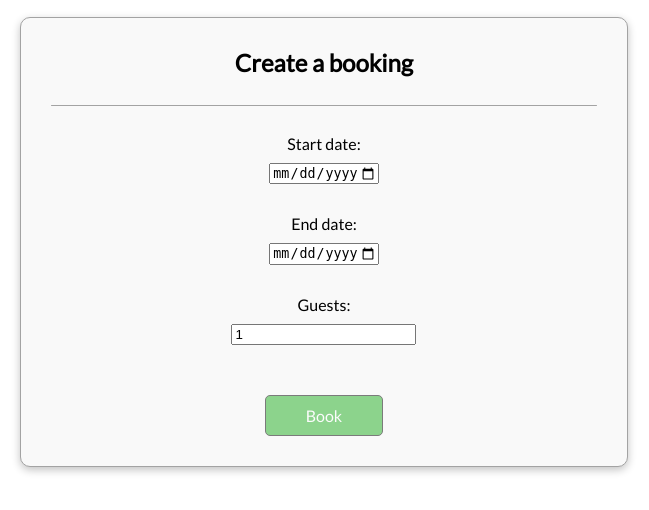
Book property › start date validation works correctly
The image size is (649, 510).
In the date field with test id "start-date-test": (324, 174) [269,163,379,184], type "2026-01-01"
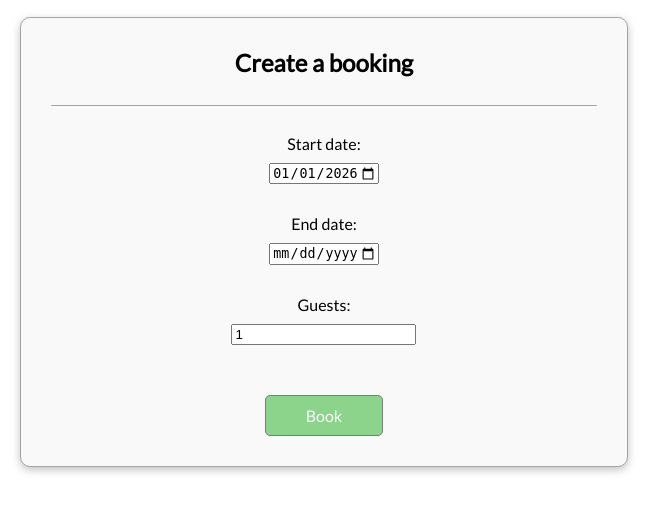
Leave the date field with test id "start-date-test", box [269,163,379,184]
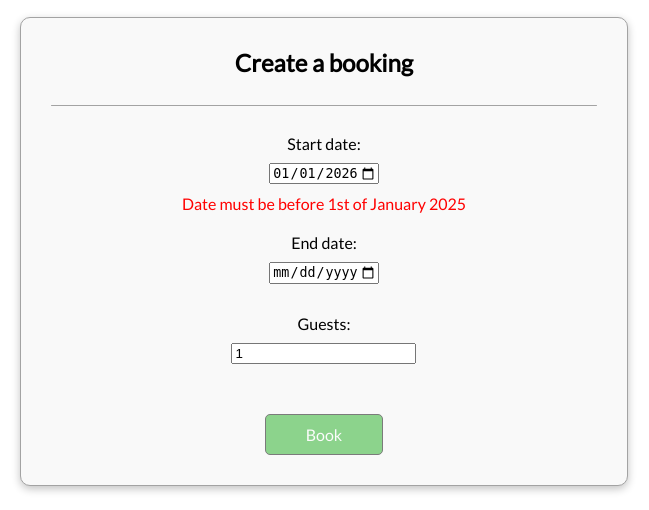
Check: the text "Date must be before 1st of January 2025" is shown, box [182,194,466,213]
